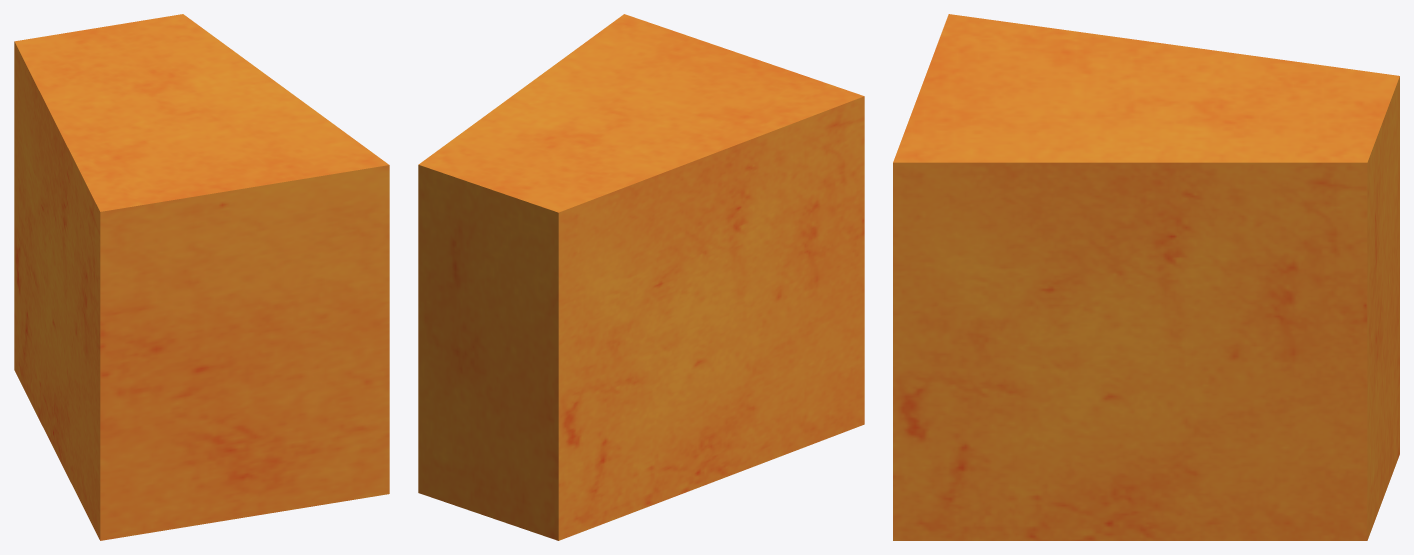
The model's file is reachslice.obj.
The picture shows the model from 3 angles, left to right: view 1: azimuth 30°, elevation 25°; view 2: azimuth 150°, elevation 25°; view 3: azimuth 270°, elevation 25°; orthographic projection. The views are drawn at different scales.
Visible parts, largest first — view 1: pCylinder4; view 2: pCylinder4; view 3: pCylinder4.
Part boxes in pixels (bbox=[...]): pCylinder4: bbox=[14, 14, 389, 540]; pCylinder4: bbox=[418, 14, 864, 540]; pCylinder4: bbox=[893, 14, 1399, 540].
Size of the model in its own units: 0.8852 by 1.05 by 1.28.
1 material, 1 textured.
